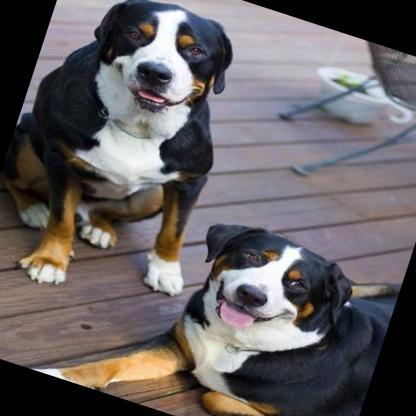Greater_Swiss_Mountain_dog: (29, 171, 402, 416), (0, 0, 269, 328)
